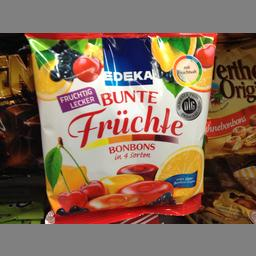candy: (25, 33, 216, 222)
